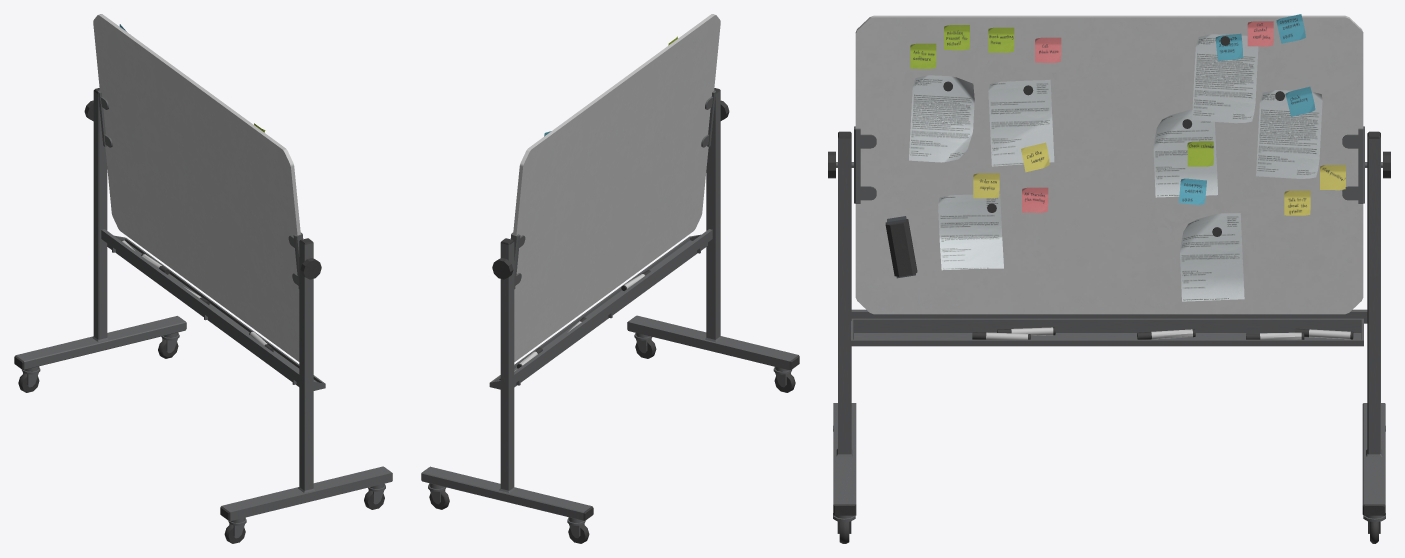
File: SM_whiteboard_a.fbx
The picture shows the model from 3 angles, left to right: view 1: azimuth 30°, elevation 25°; view 2: azimuth 150°, elevation 25°; view 3: azimuth 270°, elevation 25°; orthographic projection. The views are drawn at different scales.
Visible parts, largest first — view 1: polySurface827, polySurface826, polySurface816; view 2: polySurface827, polySurface826, polySurface816; view 3: polySurface827, polySurface753, polySurface826, polySurface816.
Part boxes in pixels (bbox=[...]): polySurface827: bbox=[93, 14, 300, 361]; polySurface826: bbox=[16, 90, 391, 538]; polySurface816: bbox=[14, 88, 392, 543]; polySurface827: bbox=[513, 14, 720, 371]; polySurface826: bbox=[422, 90, 797, 538]; polySurface816: bbox=[421, 88, 799, 543]; polySurface827: bbox=[855, 15, 1363, 339]; polySurface753: bbox=[909, 14, 1345, 301]; polySurface826: bbox=[833, 126, 1385, 533]; polySurface816: bbox=[828, 36, 1390, 543].
Size of the model in its own units: 0.9431 by 2.05 by 2.18.
